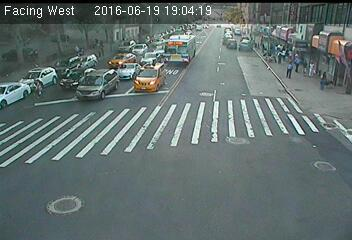neg: (40, 74, 74, 119), (74, 137, 105, 177), (210, 105, 240, 144), (200, 36, 229, 76), (265, 145, 294, 184), (49, 186, 76, 222), (117, 156, 143, 190), (89, 50, 113, 82), (207, 168, 231, 200), (240, 74, 263, 105), (144, 75, 165, 102), (310, 178, 331, 205), (330, 144, 347, 167), (329, 26, 342, 44), (289, 26, 302, 44)
pos: (318, 68, 335, 92), (283, 61, 296, 79), (308, 58, 321, 76)
